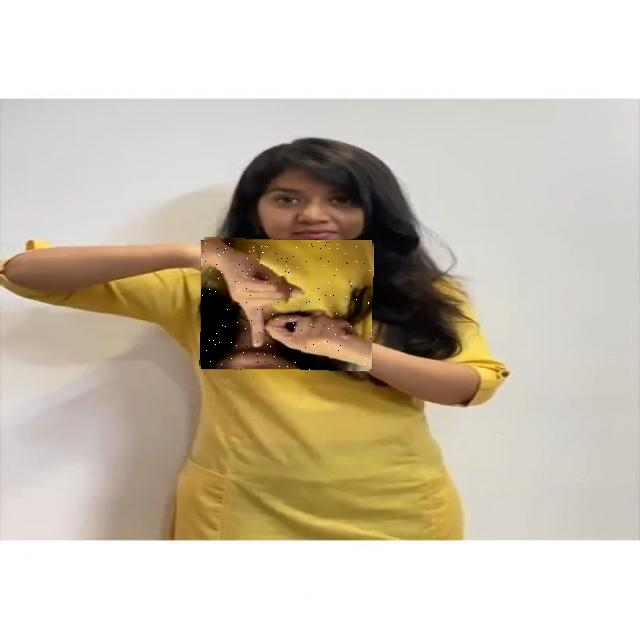K: (200, 239, 373, 370)
